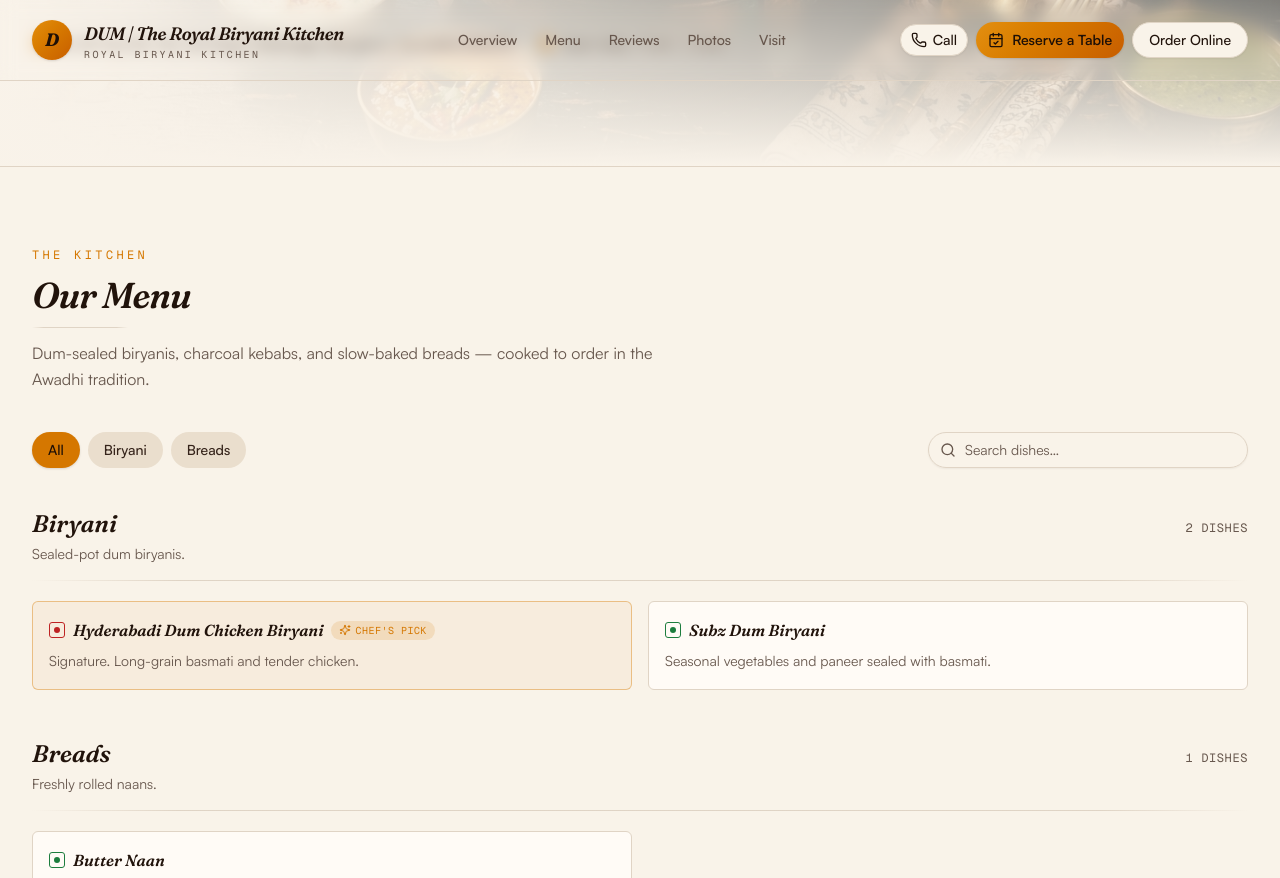
Test: Menu › searches the menu and shows an empty state for no matches
(page scrolled)
Type "naan" into the search field named "Search the menu" at (1088, 450), box left=928, top=432, right=1248, bottom=468
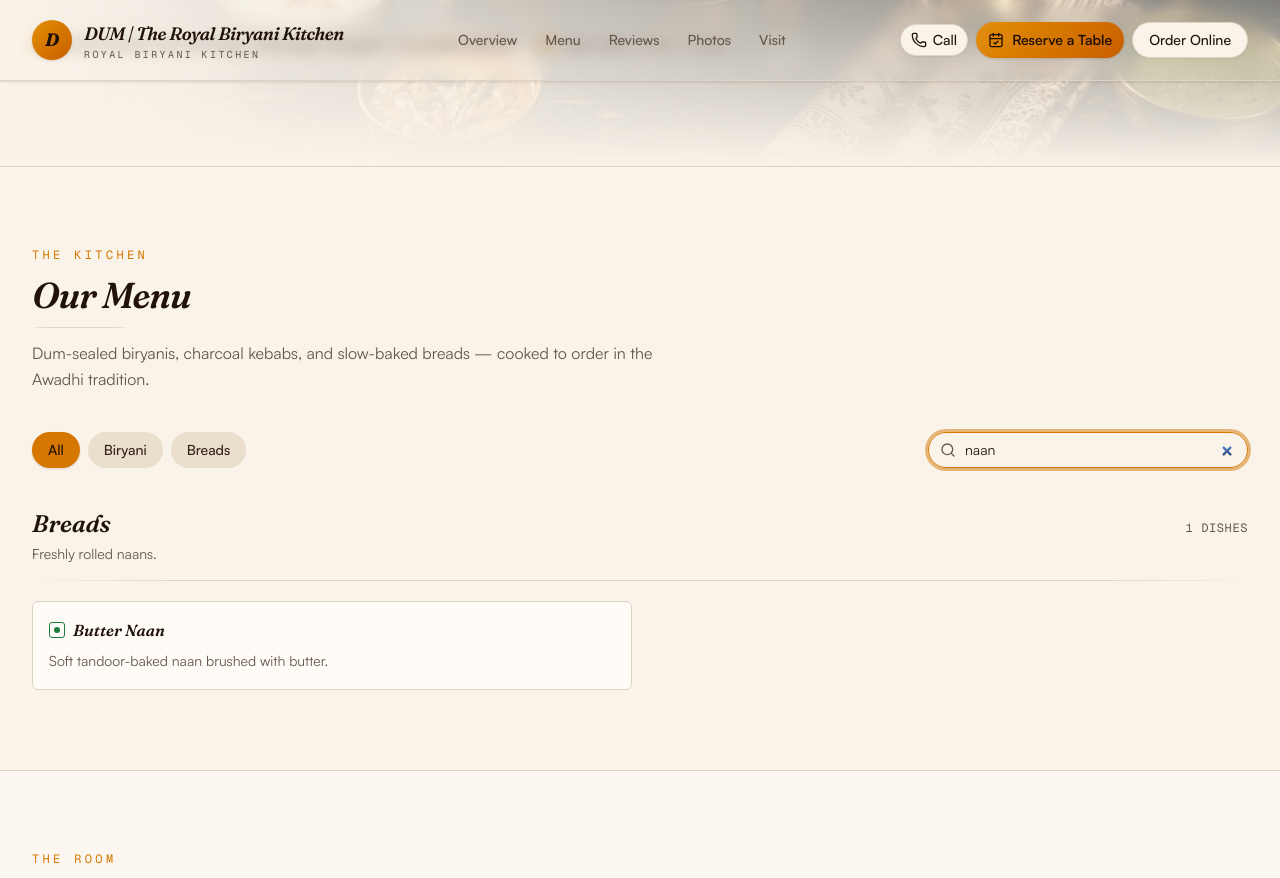
Expected: the heading "Butter Naan" is shown, left=73, top=618, right=165, bottom=642
Result: the heading "Subz Dum Biryani" is gone
Replace the text in the search field named "Search the menu" with "sushi" at (1088, 450), box left=928, top=432, right=1248, bottom=468
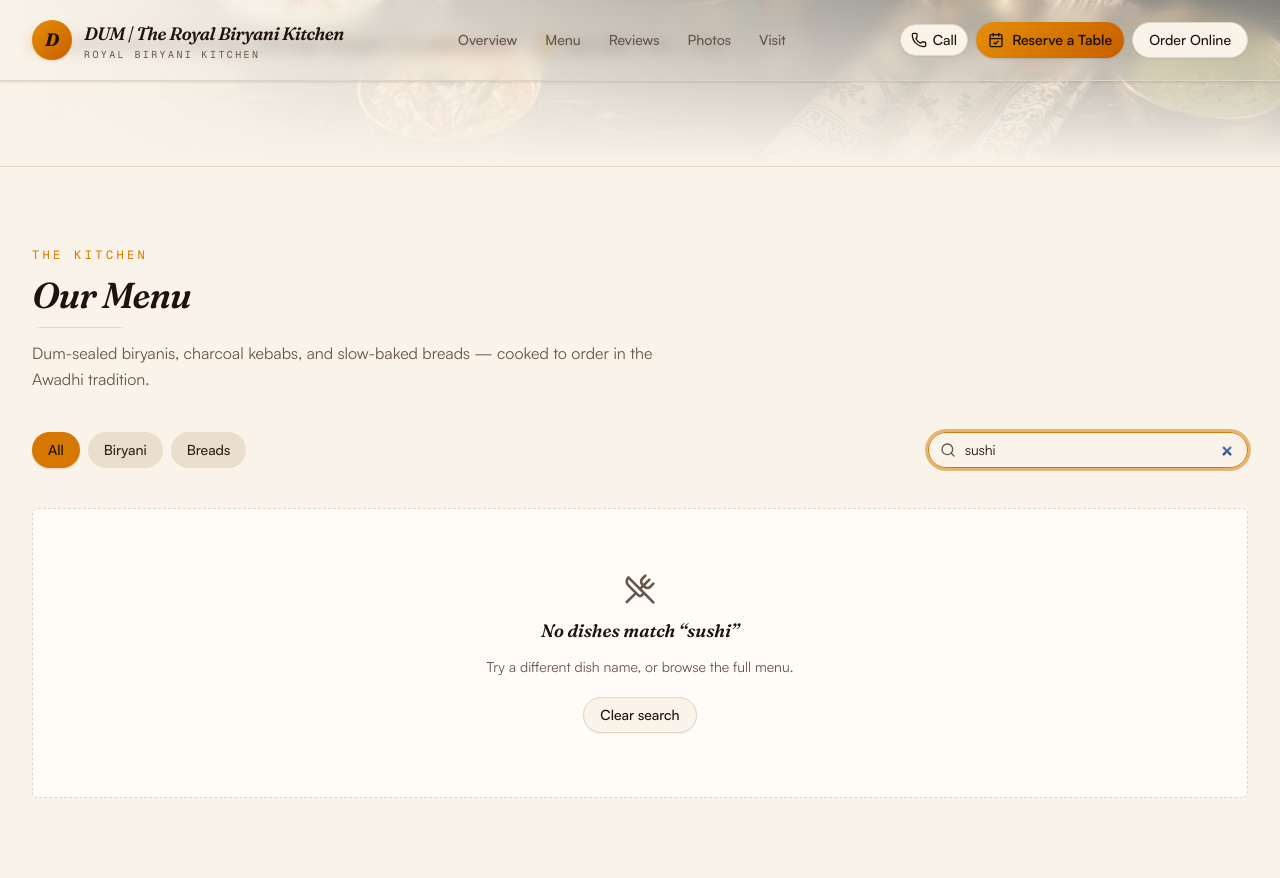
Result: the element with test id "menu.empty_state" is shown at left=32, top=508, right=1248, bottom=798
